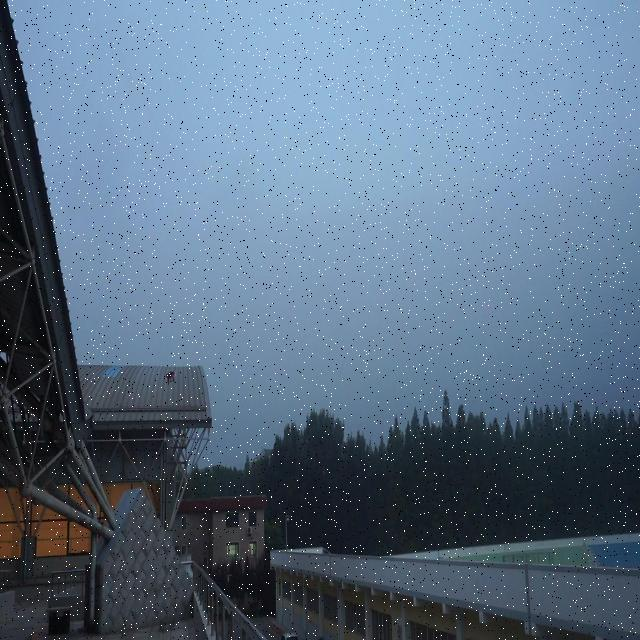UAV: (165, 372, 177, 385)
